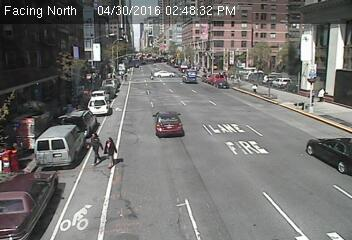neg: (220, 108, 253, 151), (145, 78, 172, 114), (303, 161, 329, 195), (192, 80, 215, 110), (276, 40, 297, 68), (194, 173, 214, 201), (104, 45, 124, 72), (10, 151, 30, 178), (64, 189, 84, 215), (128, 169, 147, 195), (159, 143, 178, 168), (105, 83, 124, 107), (282, 159, 299, 182), (25, 68, 42, 90), (66, 63, 83, 85), (176, 37, 193, 59), (282, 122, 298, 143), (294, 93, 309, 112)
pos: (102, 136, 125, 166), (81, 130, 103, 160), (250, 80, 262, 97)
